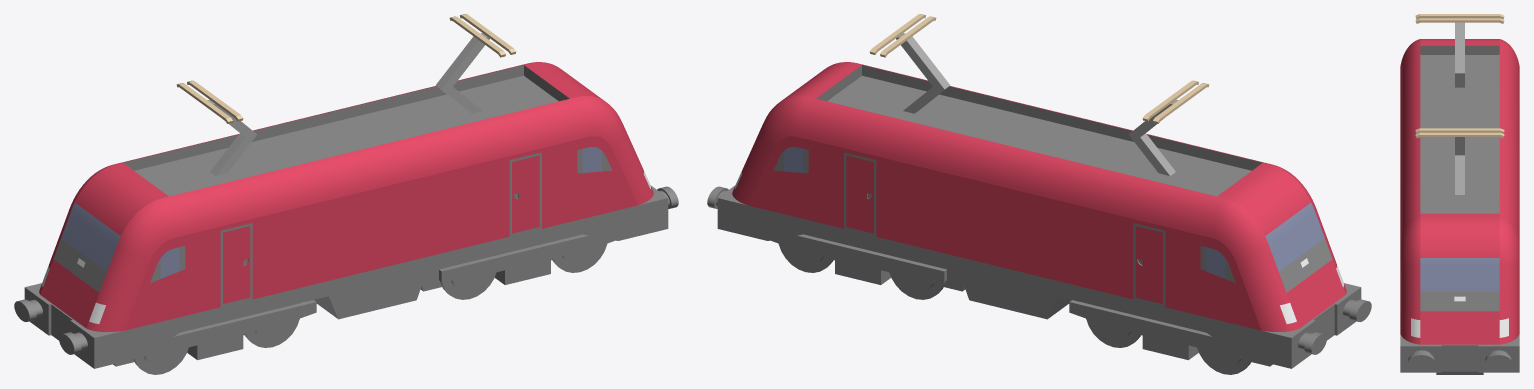
The model's file is 0CWIFC_Vewv.glb.
The picture shows the model from 3 angles, left to right: view 1: azimuth 30°, elevation 25°; view 2: azimuth 150°, elevation 25°; view 3: azimuth 270°, elevation 25°; orthographic projection. The views are drawn at different scales.
Parts seen in each view (by area): view 1: Component_2_ID374, Component_2_ID272_1, Component_2_ID410, Component_2_ID312_1, Component_2_ID362_1, Component_2_ID258, Component_2_ID272, Component_2_ID258_1, Component_2_ID362, Component_2_ID422, Component_2_ID324_1, Component_1_ID24_2 (+13 smaller); view 2: Component_2_ID272, Component_2_ID374_1, Component_2_ID312, Component_2_ID410_1, Component_2_ID258_1, Component_2_ID362, Component_2_ID374, Component_2_ID362_1, Component_2_ID258, Component_2_ID324, Component_2_ID422_1, Component_1_ID148_3 (+13 smaller); view 3: Component_2_ID272_1, Component_2_ID374_1, Component_2_ID258, Component_2_ID362, Component_2_ID258_1, Component_2_ID362_1, Component_2_ID272, Component_2_ID374, Component_2_ID312_1, Component_2_ID410_1, Component_2_ID286_1, Component_2_ID386_1 (+18 smaller).
Part boxes in pixels (left/top/right/bottom): Component_2_ID374: left=63, top=147, right=381, bottom=331; Component_2_ID272_1: left=370, top=79, right=653, bottom=267; Component_2_ID410: left=62, top=223, right=381, bottom=368; Component_2_ID312_1: left=377, top=152, right=668, bottom=309; Component_2_ID362_1: left=323, top=65, right=546, bottom=141; Component_2_ID258: left=123, top=114, right=345, bottom=187; Component_2_ID272: left=39, top=113, right=322, bottom=311; Component_2_ID258_1: left=347, top=82, right=569, bottom=150; Component_2_ID362: left=157, top=141, right=357, bottom=196; Component_2_ID422: left=223, top=226, right=250, bottom=303; Component_2_ID324_1: left=512, top=155, right=539, bottom=233; Component_1_ID24_2: left=439, top=247, right=532, bottom=281; Component_2_ID272: left=1004, top=147, right=1322, bottom=331; Component_2_ID374_1: left=732, top=79, right=1015, bottom=267; Component_2_ID312: left=1004, top=223, right=1323, bottom=368; Component_2_ID410_1: left=717, top=152, right=1008, bottom=309; Component_2_ID258_1: left=839, top=65, right=1062, bottom=141; Component_2_ID362: left=1040, top=114, right=1262, bottom=187; Component_2_ID374: left=1063, top=113, right=1346, bottom=311; Component_2_ID362_1: left=816, top=82, right=1038, bottom=150; Component_2_ID258: left=1028, top=141, right=1228, bottom=196; Component_2_ID324: left=1135, top=226, right=1162, bottom=303; Component_2_ID422_1: left=846, top=155, right=873, bottom=233; Component_1_ID148_3: left=853, top=247, right=946, bottom=281; Component_2_ID272_1: left=1400, top=131, right=1459, bottom=344; Component_2_ID374_1: left=1460, top=131, right=1519, bottom=344; Component_2_ID258: left=1460, top=45, right=1499, bottom=138; Component_2_ID362: left=1420, top=45, right=1459, bottom=138; Component_2_ID258_1: left=1420, top=139, right=1459, bottom=213; Component_2_ID362_1: left=1460, top=139, right=1499, bottom=213; Component_2_ID272: left=1465, top=39, right=1519, bottom=154; Component_2_ID374: left=1400, top=39, right=1454, bottom=154; Component_2_ID312_1: left=1400, top=334, right=1459, bottom=372; Component_2_ID410_1: left=1460, top=334, right=1519, bottom=372; Component_2_ID286_1: left=1420, top=258, right=1459, bottom=291; Component_2_ID386_1: left=1460, top=258, right=1499, bottom=291.
Bounding box in the file's own units: 8.58 × 3.24 × 1.71.
